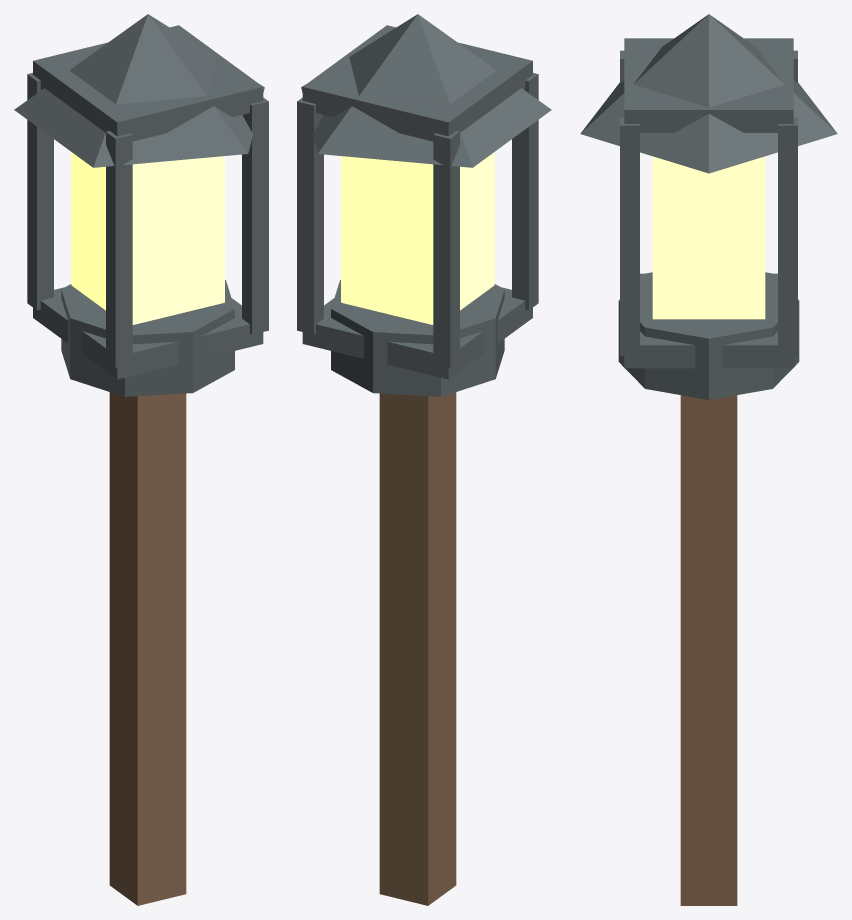
Rendered from lantern_post.glb.
3 renders of one model, left to right at view 1: azimuth 30°, elevation 25°; view 2: azimuth 150°, elevation 25°; view 3: azimuth 270°, elevation 25°, orthographic.
Parts seen in each view (by area): view 1: TV_lantern_post; view 2: TV_lantern_post; view 3: TV_lantern_post.
Part boxes in pixels (x1,y1,x2,y2): TV_lantern_post: (14, 14, 268, 905); TV_lantern_post: (297, 14, 551, 905); TV_lantern_post: (580, 14, 837, 905).
Size of the model in its own units: 0.4342 by 1.72 by 0.4565.
